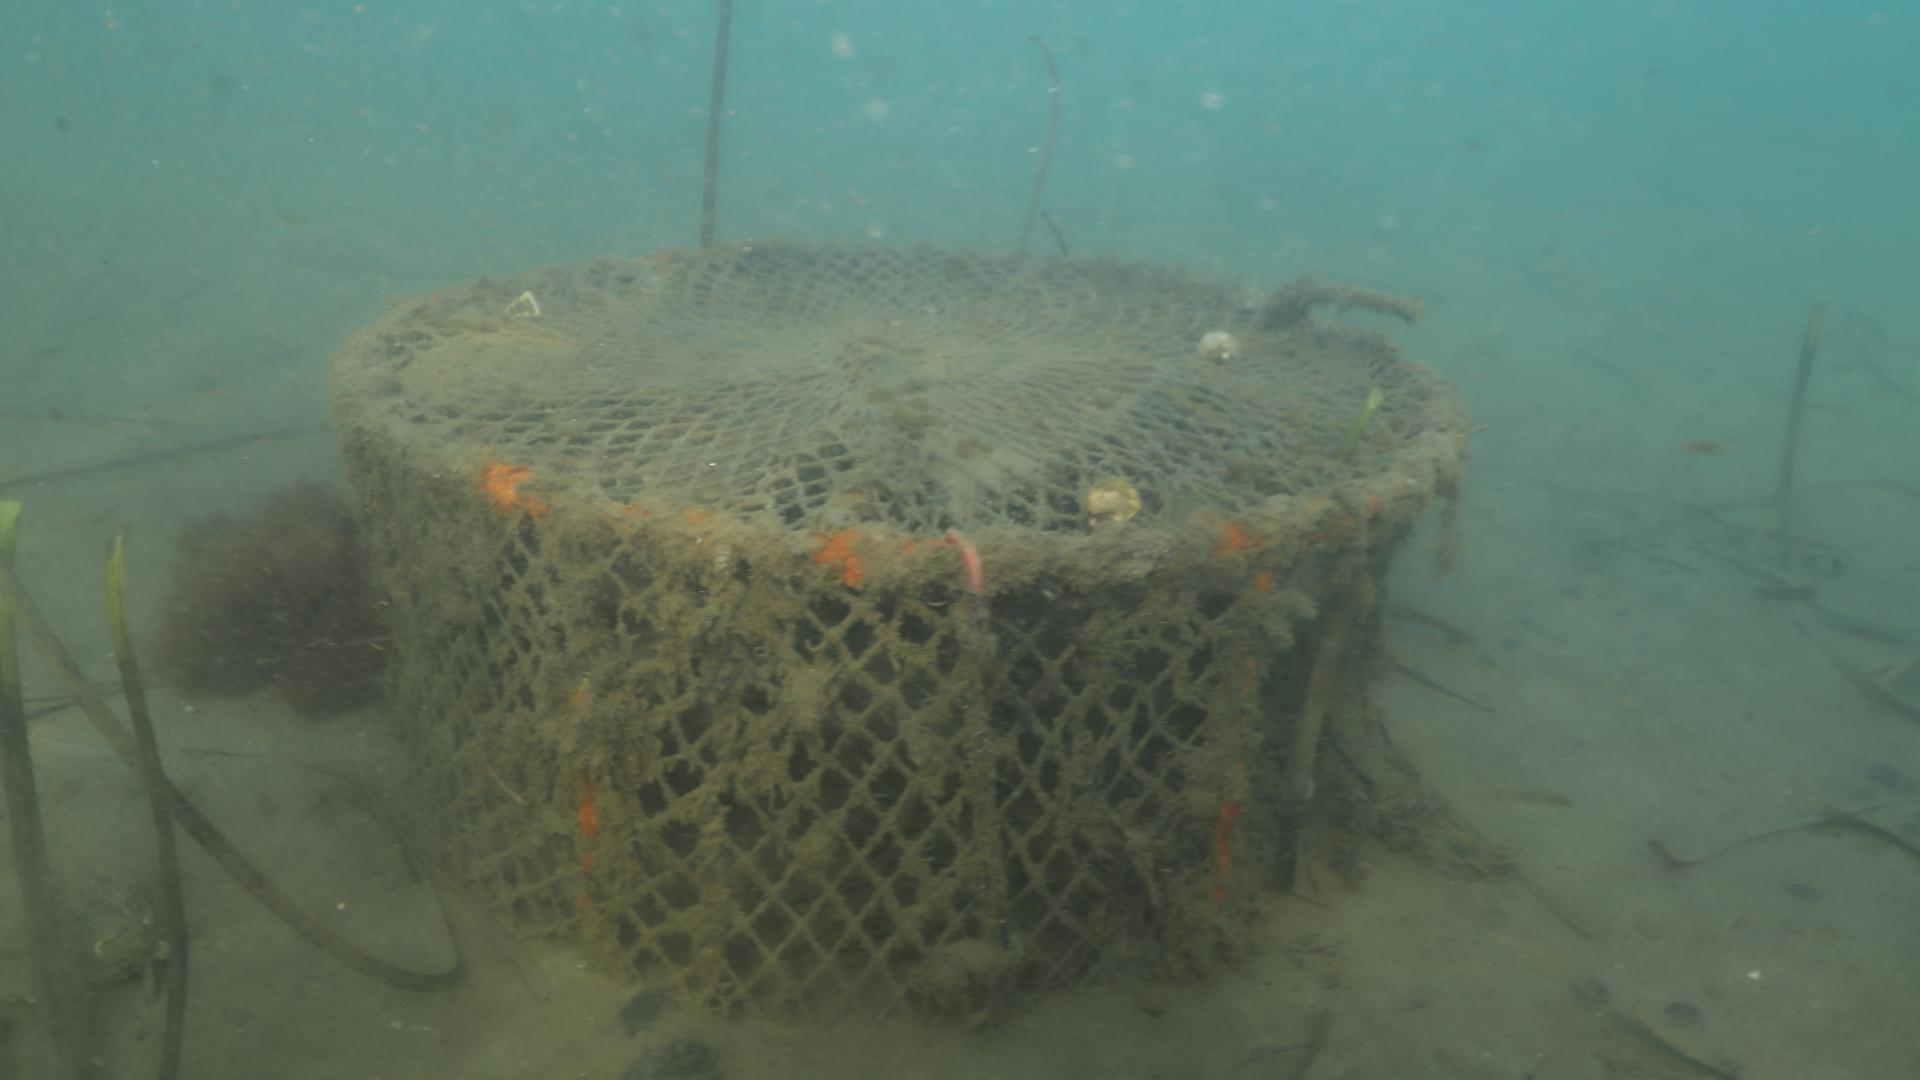circular fish trap: (330, 239, 1461, 1026)
